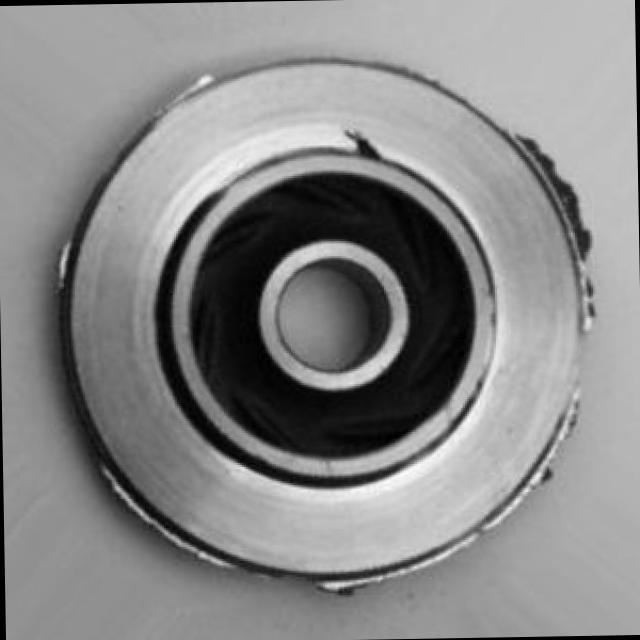Defect: (345, 127, 383, 165)
